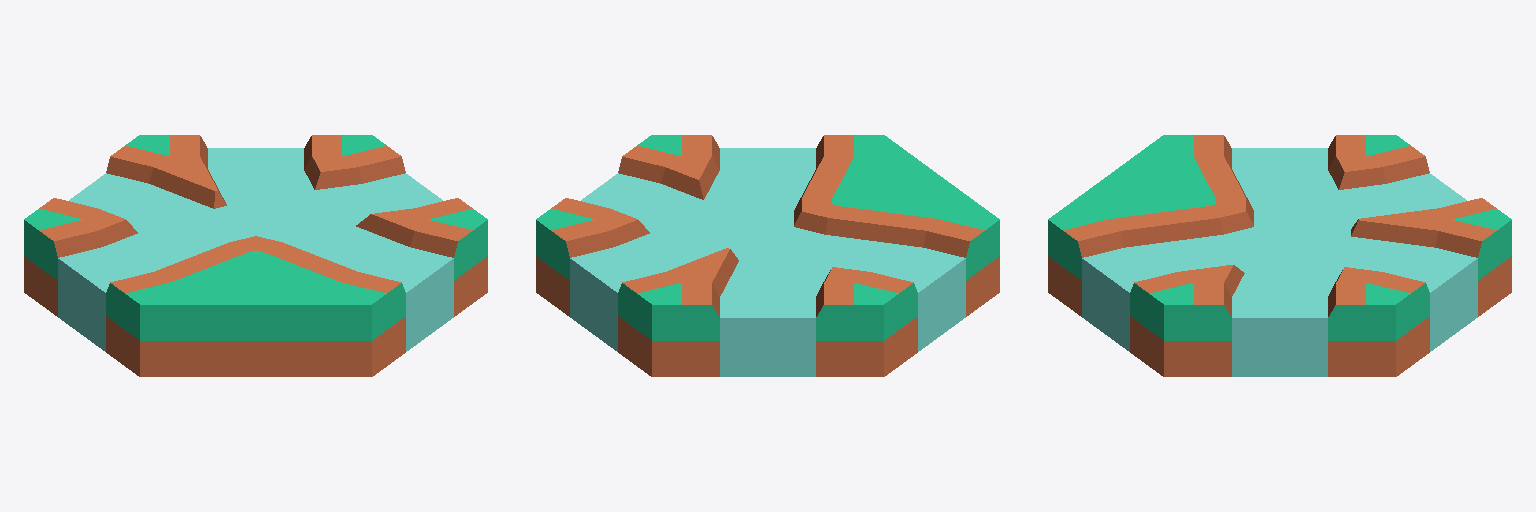
The model's file is river_intersectionG.obj.
3 renders of one model, left to right at view 1: azimuth 30°, elevation 25°; view 2: azimuth 150°, elevation 25°; view 3: azimuth 270°, elevation 25°, orthographic.
Parts seen in each view (by area): view 1: river_intersectionG; view 2: river_intersectionG; view 3: river_intersectionG.
Boxes of the visible parts, x1=… form: river_intersectionG: x1=24, y1=135, x2=487, y2=376; river_intersectionG: x1=536, y1=135, x2=999, y2=376; river_intersectionG: x1=1048, y1=135, x2=1511, y2=376.
Bounding box in the file's own units: 1 × 0.2 × 1.15.